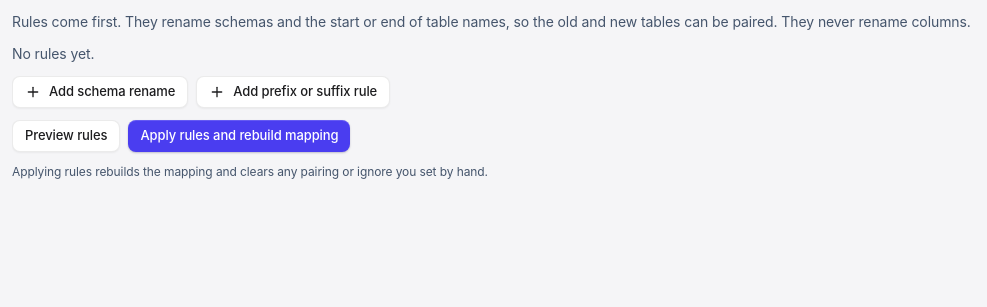
Scenario: RuleEditor › adds a schema rename and a prefix rule, then removes one
The image size is (987, 307).
Expected: the text "No rules yet." is shown, [12,45,94,62]
Click the button "Add schema rename" at coordinates (100, 92), box [12,76,188,108]
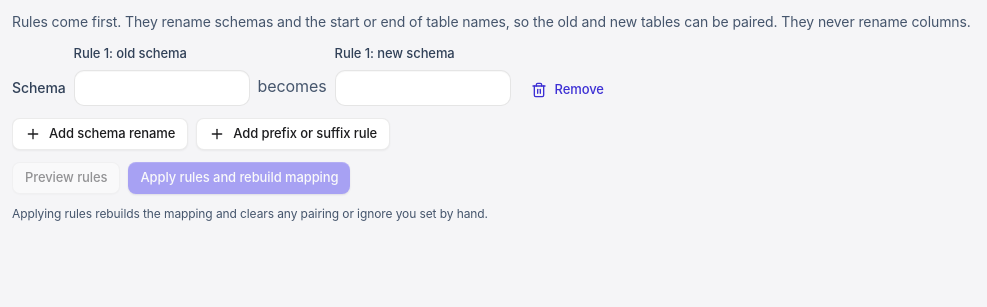
Click the button "Add prefix or suffix rule" at coordinates (293, 134), box [196,118,390,150]
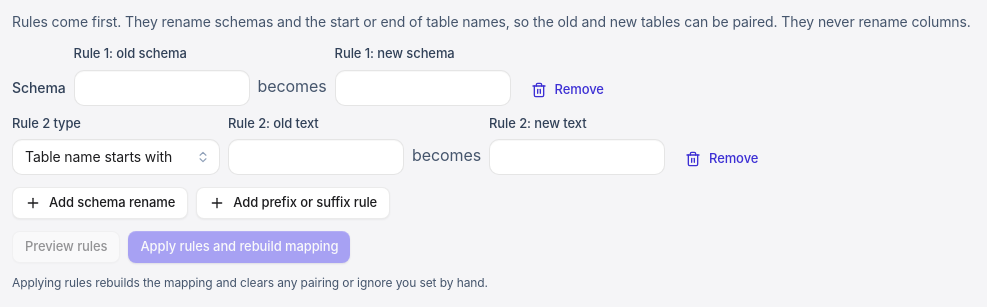
Now the field labelled "Rule 1: old schema" is shown, box [74,70,250,106]
Now the dropdown labelled "Rule 2 type" is shown, box [12,139,220,175]
Click the button with aria-label "Remove rule 1" at coordinates (567, 90), box [519,74,616,106]
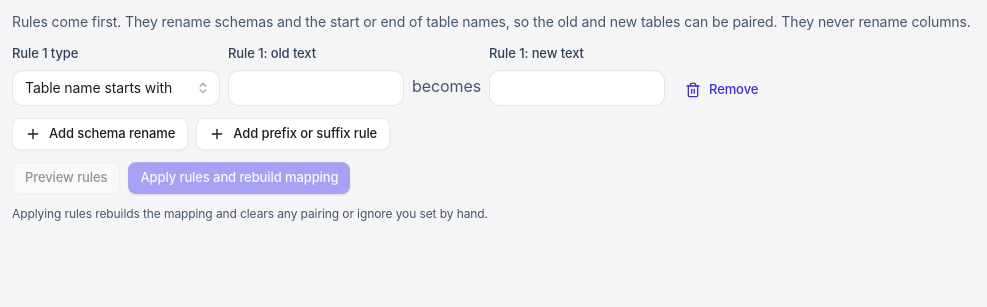
Now the dropdown labelled "Rule 1 type" is shown, box [12,70,220,106]
Now the label labelled "Rule 1: old schema" is gone
